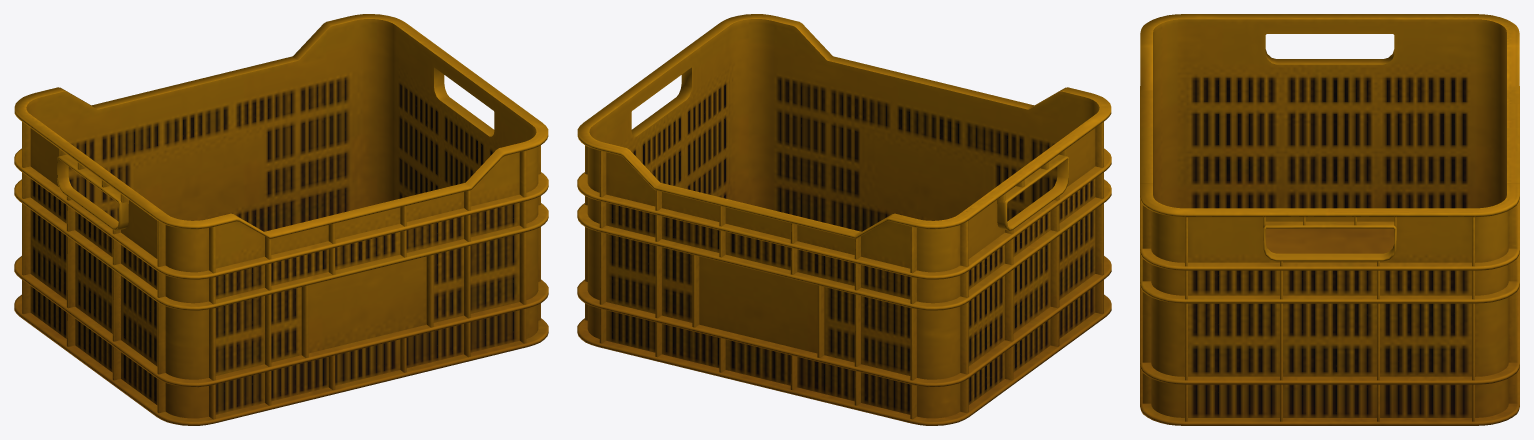
The model's file is plastic_crate_02.glb.
3 renders of one model, left to right at view 1: azimuth 30°, elevation 25°; view 2: azimuth 150°, elevation 25°; view 3: azimuth 270°, elevation 25°, orthographic. The views are drawn at different scales.
Parts seen in each view (by area): view 1: plastic_crate_02; view 2: plastic_crate_02; view 3: plastic_crate_02.
Part boxes in pixels (x1=…): plastic_crate_02: x1=14, y1=14, x2=548, y2=425; plastic_crate_02: x1=577, y1=14, x2=1111, y2=425; plastic_crate_02: x1=1140, y1=14, x2=1519, y2=425.
Size of the model in its own units: 0.5055 by 0.2541 by 0.4055.
Materials: 1 (1 with a texture image).
